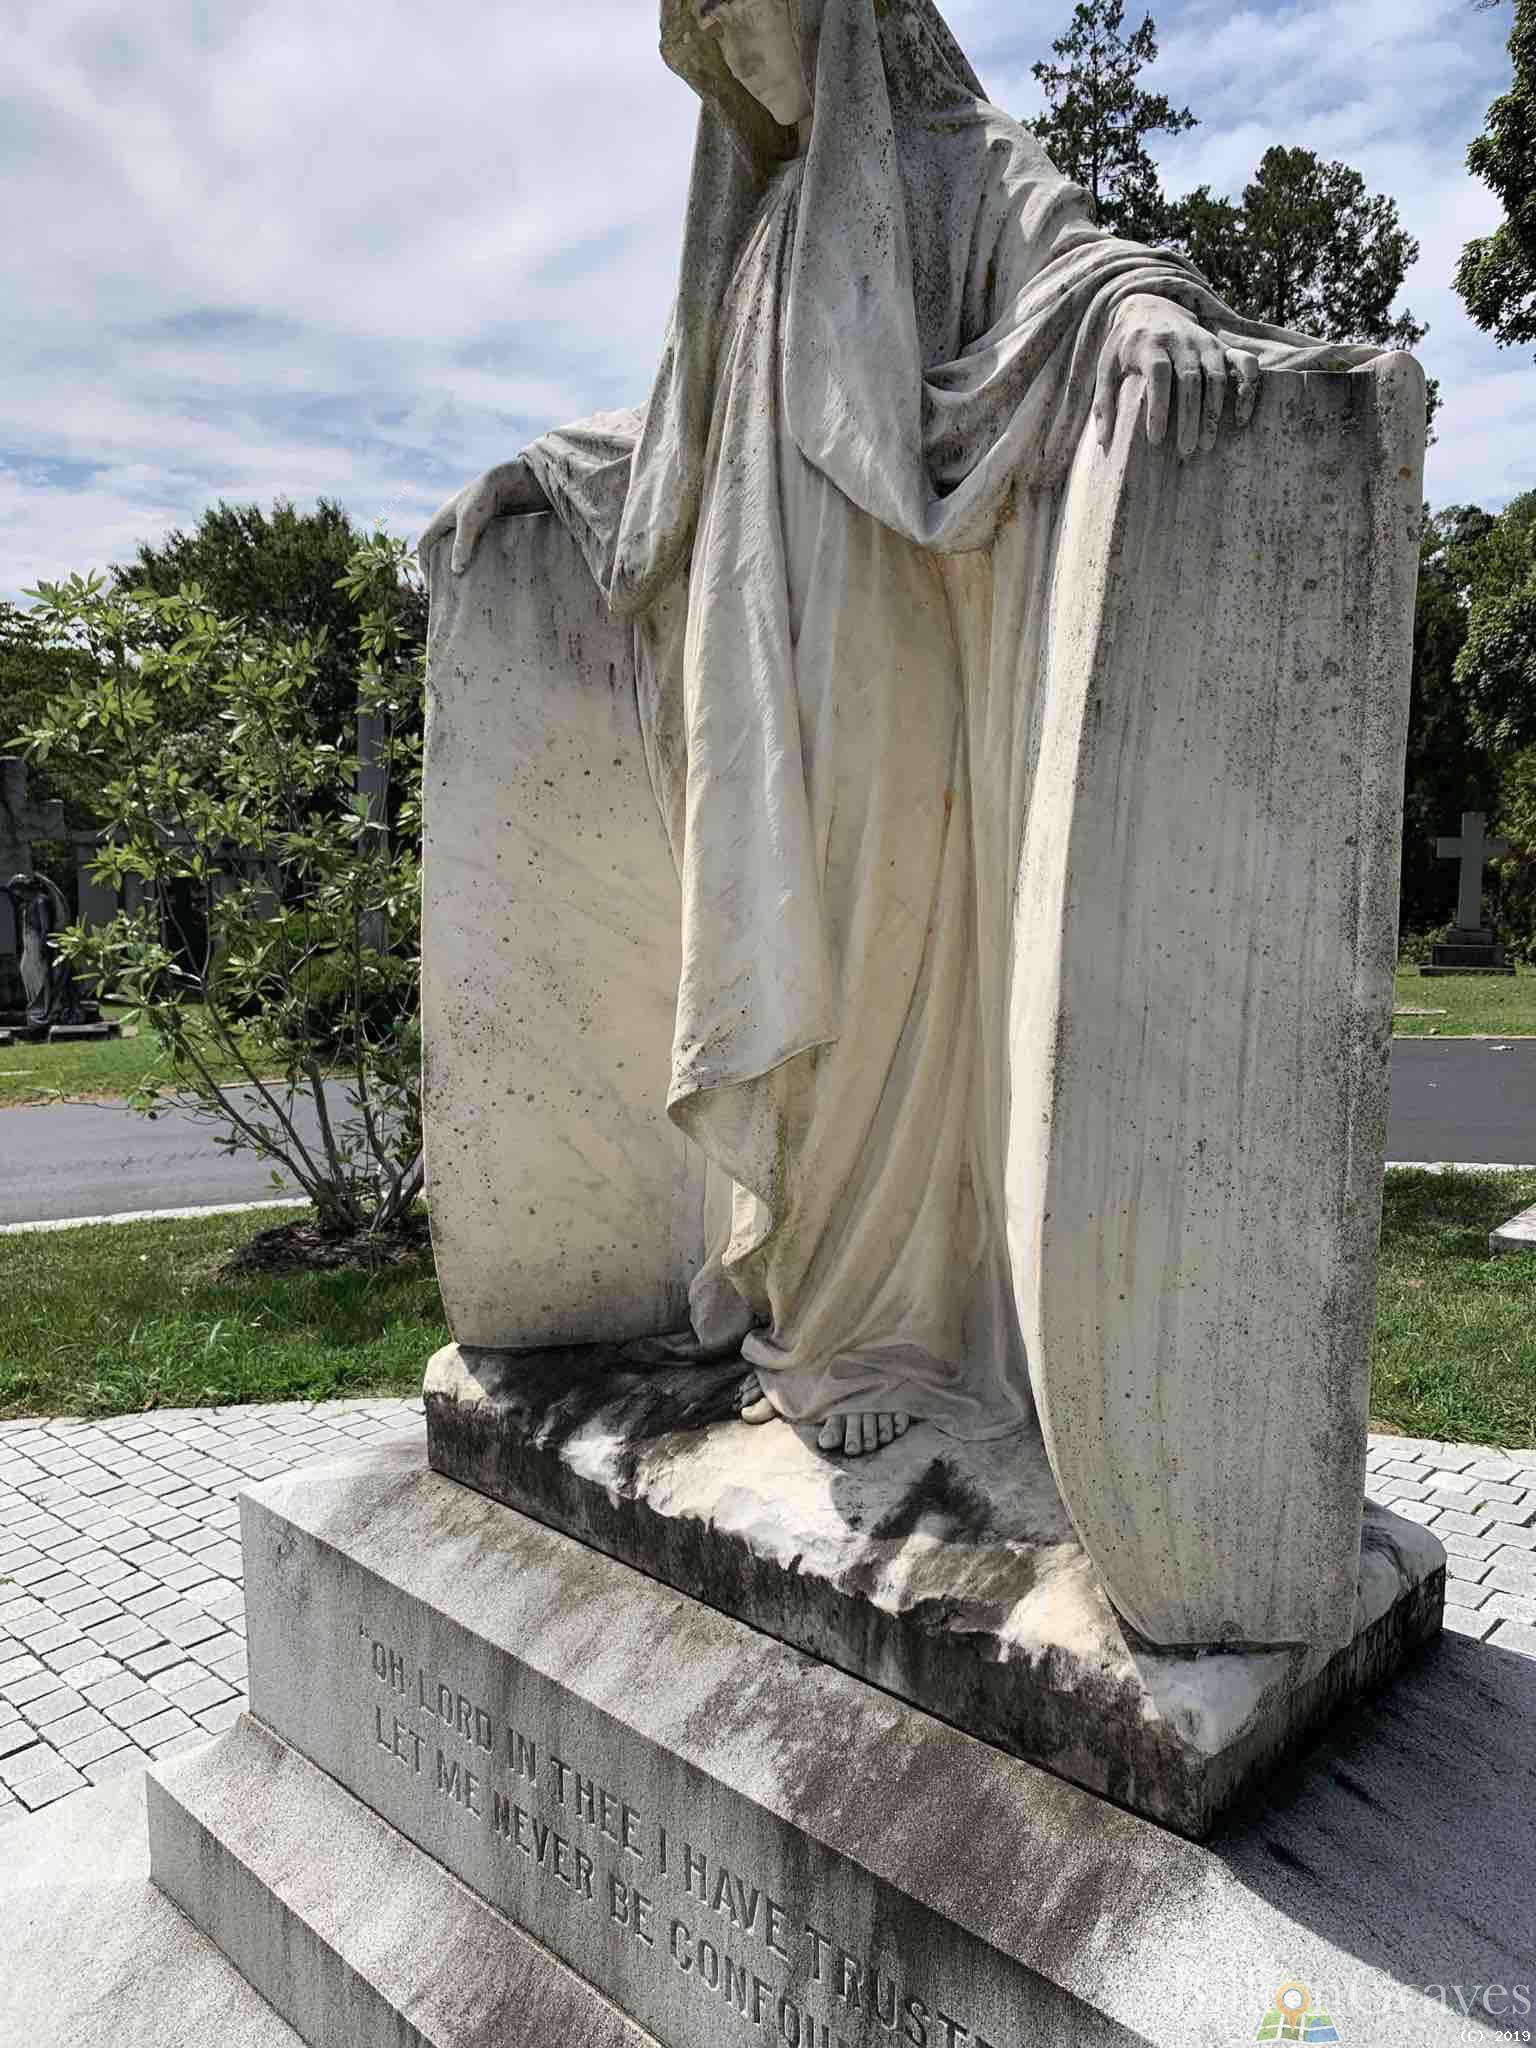statue: (423, 0, 1433, 1772)
